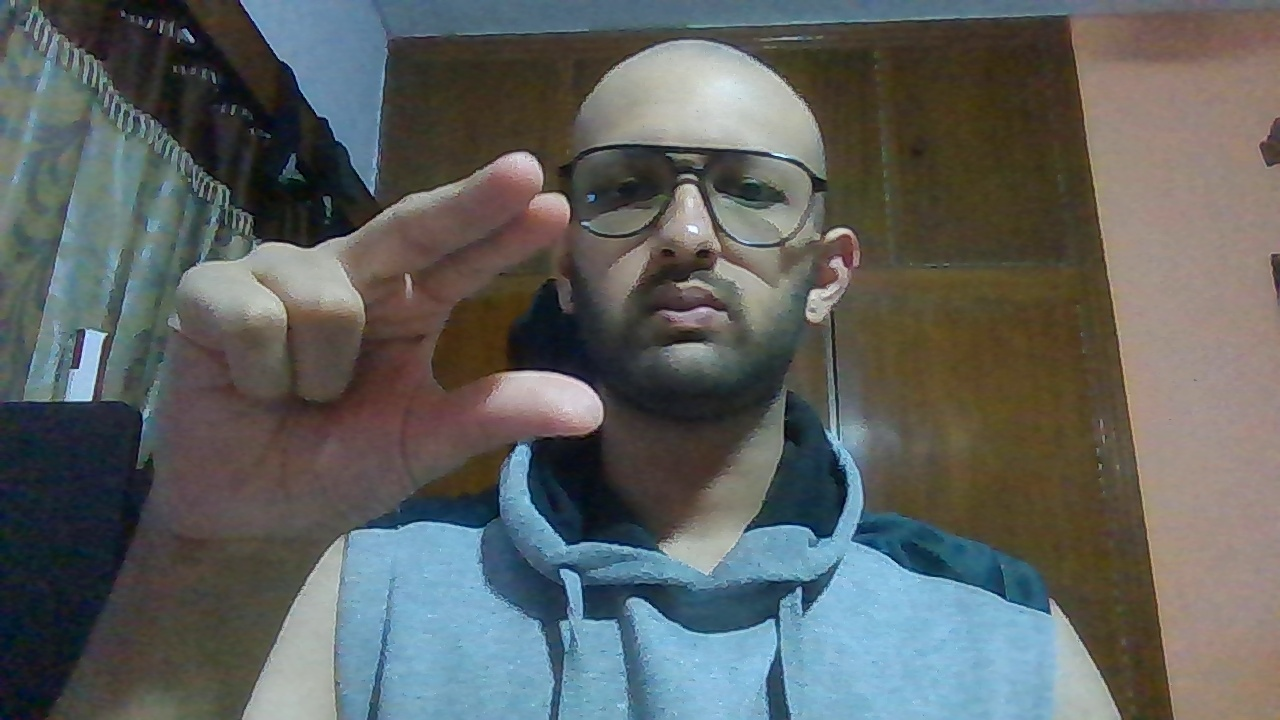No: (149, 153, 607, 500)
